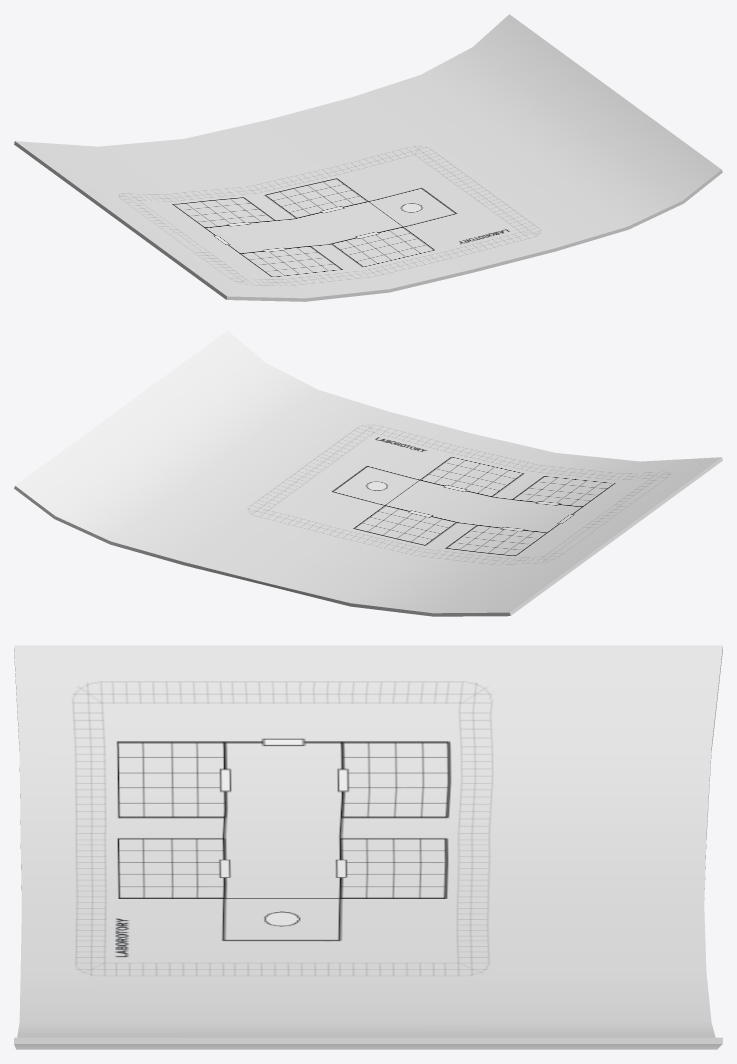
Rendered from SM_Clue_BluePrint_Edit.fbx.
3 renders of one model, top to bottom at view 1: azimuth 30°, elevation 25°; view 2: azimuth 150°, elevation 25°; view 3: azimuth 270°, elevation 25°, orthographic. The views are drawn at different scales.
Visible parts, largest first — view 1: SM_Clue_Blueprint_Edit; view 2: SM_Clue_Blueprint_Edit; view 3: SM_Clue_Blueprint_Edit.
Part boxes in pixels (box(x1,y1,x2,y2)): SM_Clue_Blueprint_Edit: box(14, 14, 722, 301); SM_Clue_Blueprint_Edit: box(14, 330, 722, 616); SM_Clue_Blueprint_Edit: box(14, 645, 722, 1049).
Size of the model in its own units: 51.49 by 4.44 by 38.14.
1 material, 1 textured.
